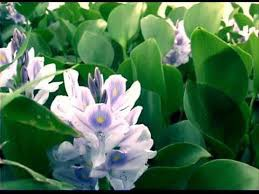water_hyacinth: (0, 13, 259, 194)
